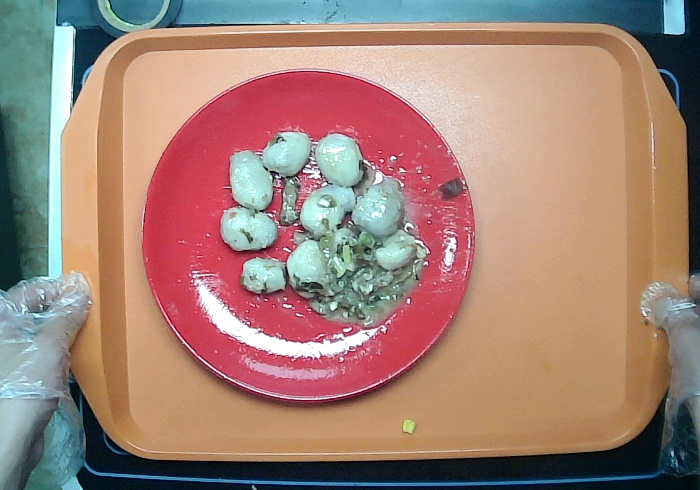HZYJPL-Hong_Se_Yuan_Pan: (138, 69, 479, 406)
